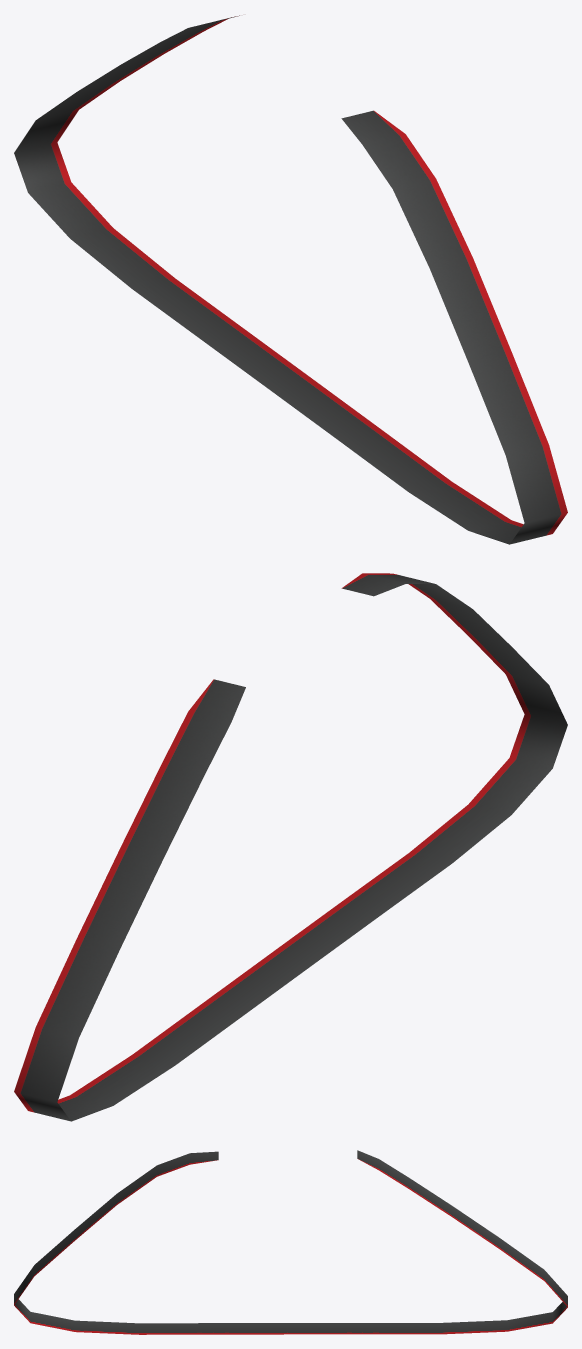
Rendered from Strap.fbx.
3 views of the same model, one above another, from view 1: azimuth 30°, elevation 25°; view 2: azimuth 150°, elevation 25°; view 3: azimuth 270°, elevation 25° (orthographic). The views are drawn at different scales.
Visible parts, largest first — view 1: Strap; view 2: Strap; view 3: Strap.
Part boxes in pixels (x1,y1,x2,y2): Strap: [14, 15, 567, 544]; Strap: [14, 573, 567, 1121]; Strap: [14, 1150, 567, 1334].
Size of the model in its own units: 0.4947 by 3.51 by 10.08.
